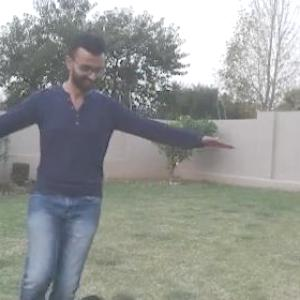land: (0, 53, 177, 292)
